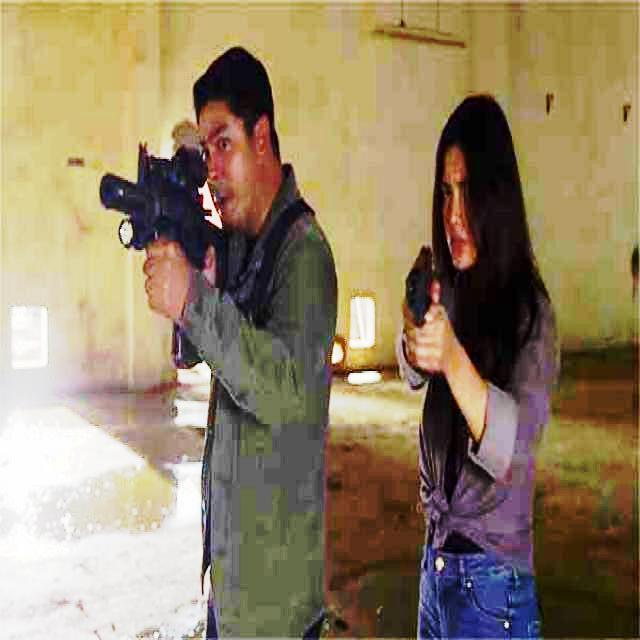Gun: (86, 160, 219, 296), (386, 237, 447, 348)
